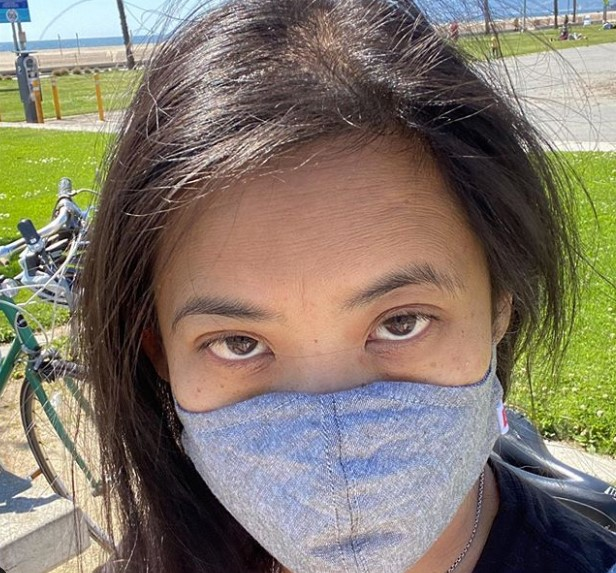face_with_mask: (143, 85, 507, 573)
